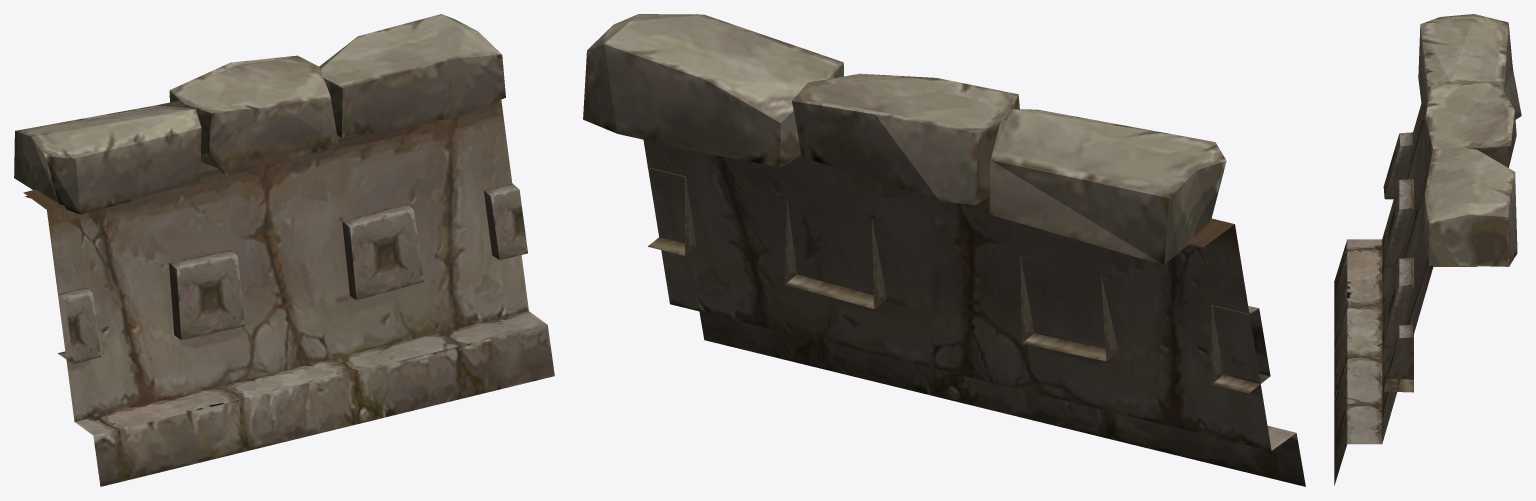
The model's file is nashgar_trim_base2_ruins_a.FBX.
The picture shows the model from 3 angles, left to right: view 1: azimuth 30°, elevation 25°; view 2: azimuth 150°, elevation 25°; view 3: azimuth 270°, elevation 25°; orthographic projection. The views are drawn at different scales.
Visible parts, largest first — view 1: nashgar_trim_base2_ruins_a; view 2: nashgar_trim_base2_ruins_a; view 3: nashgar_trim_base2_ruins_a.
Boxes of the visible parts, x1,y1,x2,y2 form: nashgar_trim_base2_ruins_a: (14,14,554,486); nashgar_trim_base2_ruins_a: (583,14,1305,486); nashgar_trim_base2_ruins_a: (1334,14,1521,485).
Size of the model in its own units: 4.02 by 2.51 by 1.55.
